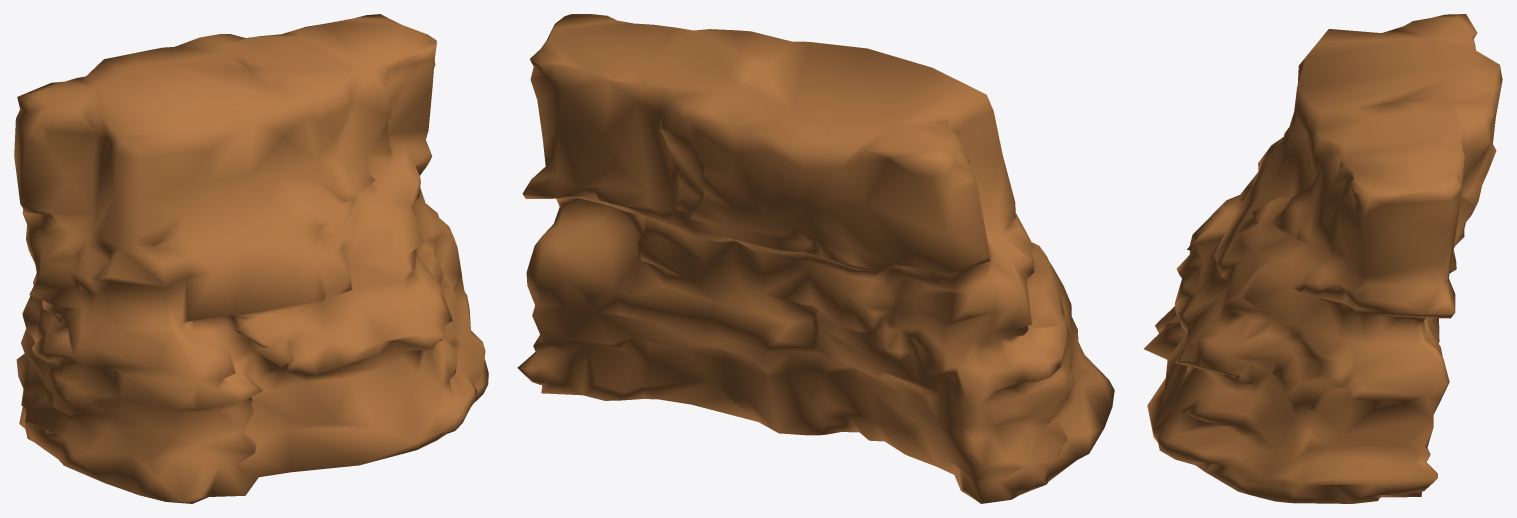
File: MSH_Rocks_Cliff_14_c.FBX
3 renders of one model, left to right at view 1: azimuth 30°, elevation 25°; view 2: azimuth 150°, elevation 25°; view 3: azimuth 270°, elevation 25°, orthographic. The views are drawn at different scales.
Visible parts, largest first — view 1: MESH_LOD1; view 2: MESH_LOD1; view 3: MESH_LOD1.
Part boxes in pixels (bbox=[...]): MESH_LOD1: bbox=[14, 14, 488, 503]; MESH_LOD1: bbox=[517, 14, 1114, 503]; MESH_LOD1: bbox=[1144, 14, 1502, 503].
Bounding box in the file's own units: 540 × 382 × 391.
